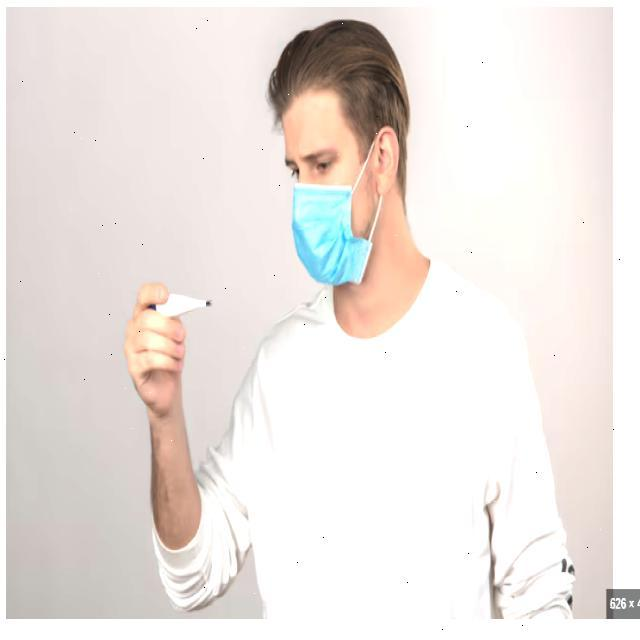face_mask: (279, 97, 401, 291)
